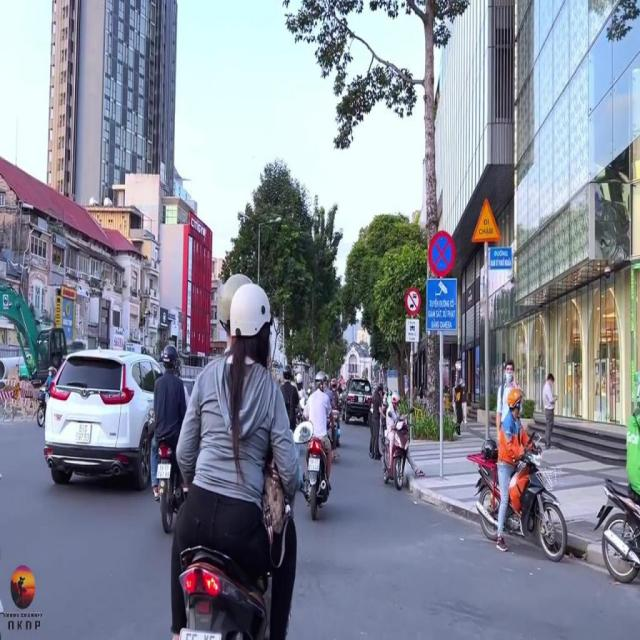cam_dung_xe_va_do_xe: (428, 230, 455, 275)
cam_o_to_tai_va_xe_khach: (405, 288, 421, 315)
di_cham: (470, 196, 501, 243)
khac: (427, 279, 456, 329), (405, 319, 419, 342)
